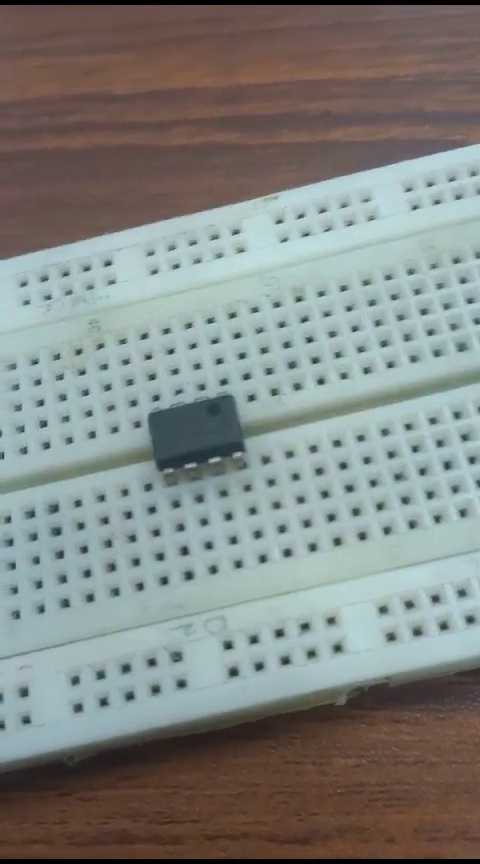IC: (136, 379, 254, 475)
